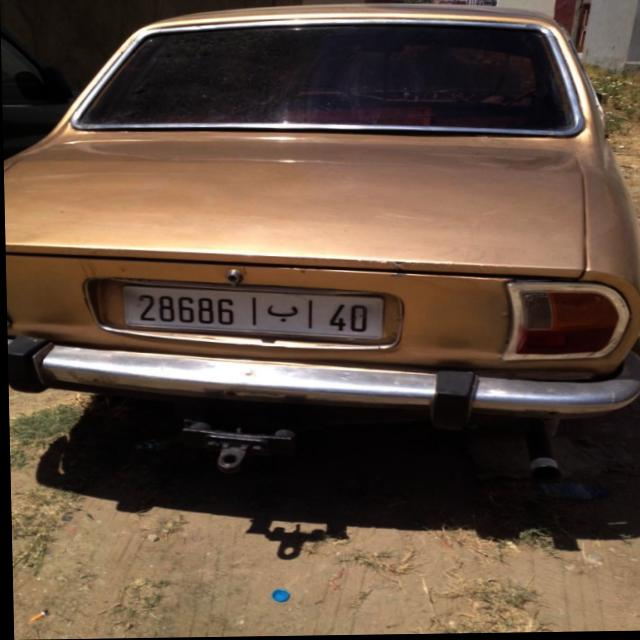License-Plate: (122, 286, 384, 341)
